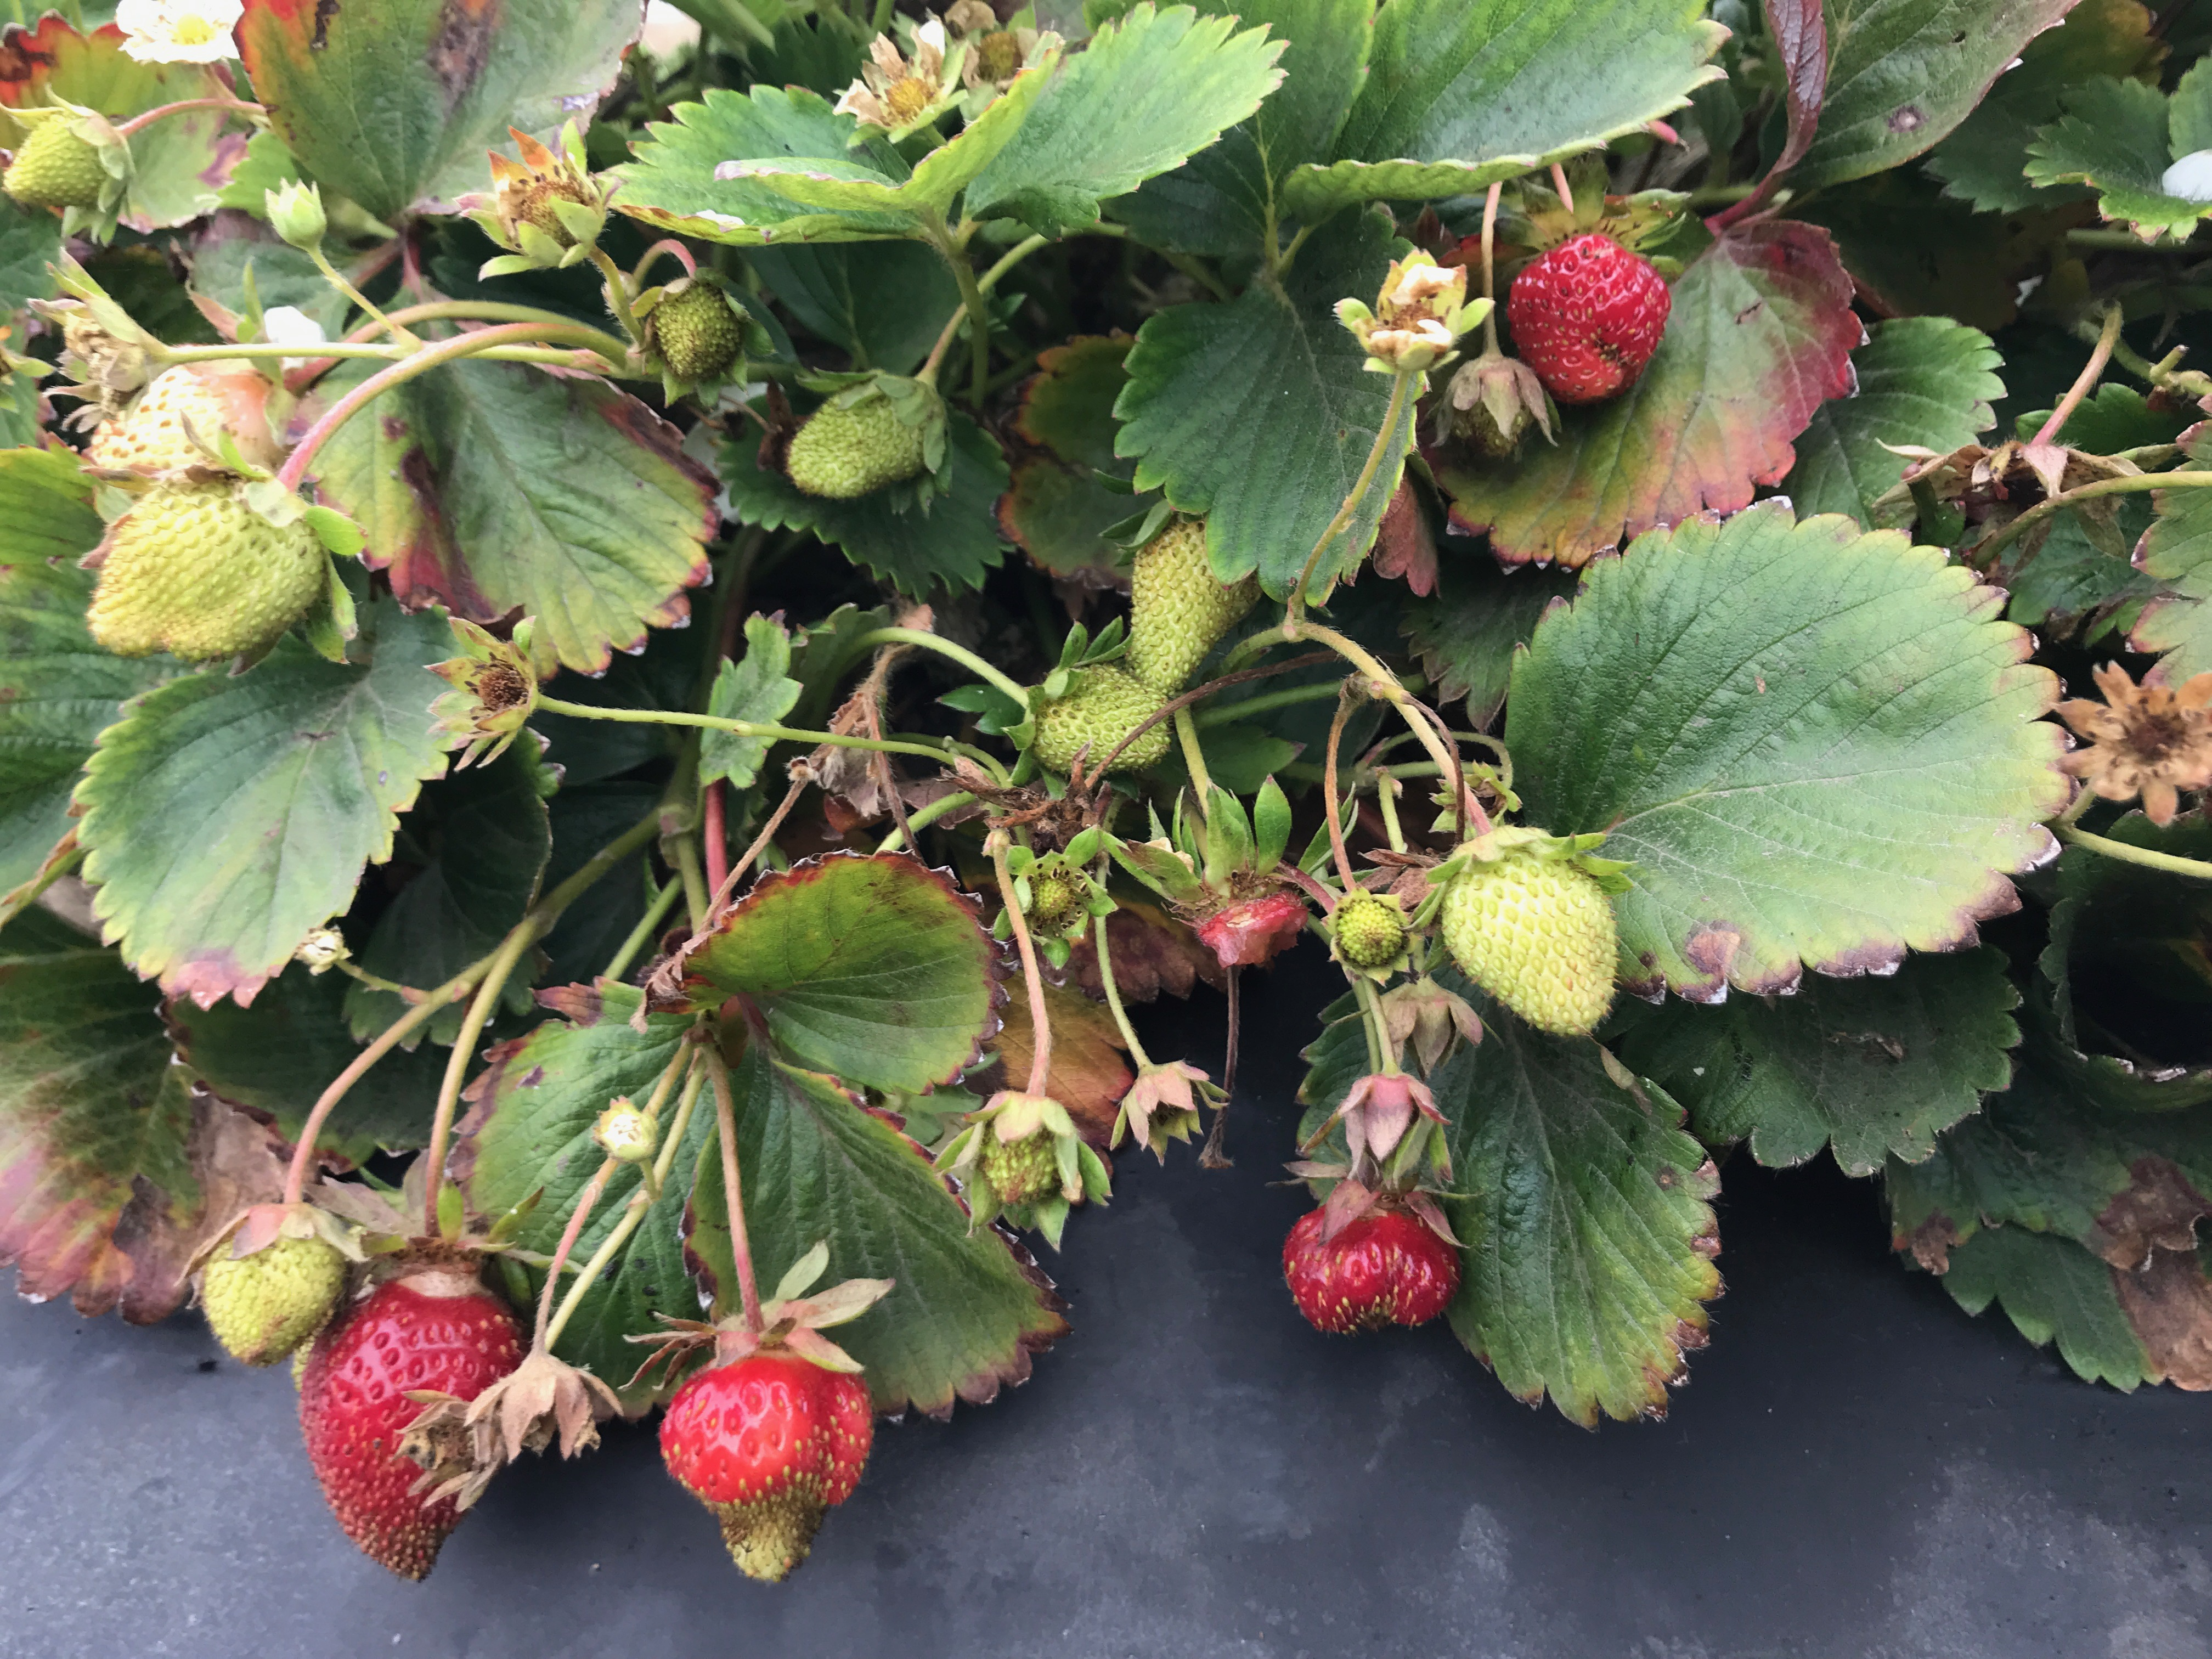ripe_strawberry: (293, 1239, 540, 1589), (1271, 1175, 1480, 1345), (1508, 223, 1677, 410)
unripe_strawberry: (644, 1298, 888, 1589), (84, 451, 350, 657), (1439, 819, 1639, 1044), (1125, 512, 1271, 702), (197, 1199, 352, 1375), (89, 349, 291, 476), (784, 371, 953, 505), (1024, 655, 1177, 777), (2, 98, 136, 214), (956, 1098, 1080, 1218), (643, 272, 752, 390), (1329, 892, 1407, 972)
